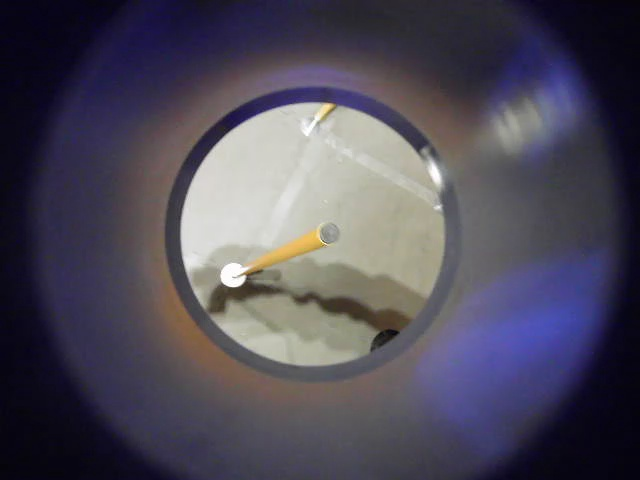tip: (382, 145, 458, 214)
